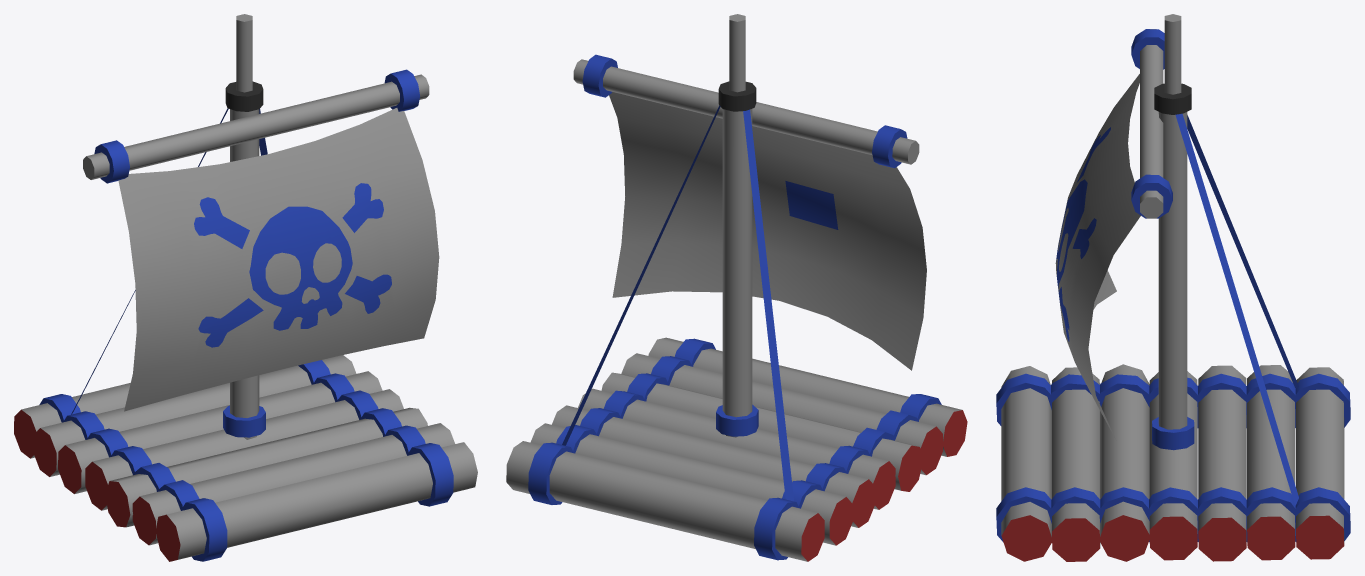
Rendered from Raft_mm.fbx.
3 views of the same model, side by side, from view 1: azimuth 30°, elevation 25°; view 2: azimuth 150°, elevation 25°; view 3: azimuth 270°, elevation 25° (orthographic). The views are drawn at different scales.
Parts seen in each view (by area): view 1: Raft, Sails; view 2: Raft, Sails; view 3: Raft, Sails.
Boxes of the visible parts, x1,y1,x2,y2 form: Raft: (14, 14, 477, 561); Sails: (118, 108, 439, 411); Raft: (506, 14, 967, 561); Sails: (609, 92, 926, 370); Raft: (996, 14, 1350, 561); Sails: (1055, 74, 1140, 440).
Bounding box in the file's own units: 329 × 432 × 292.
